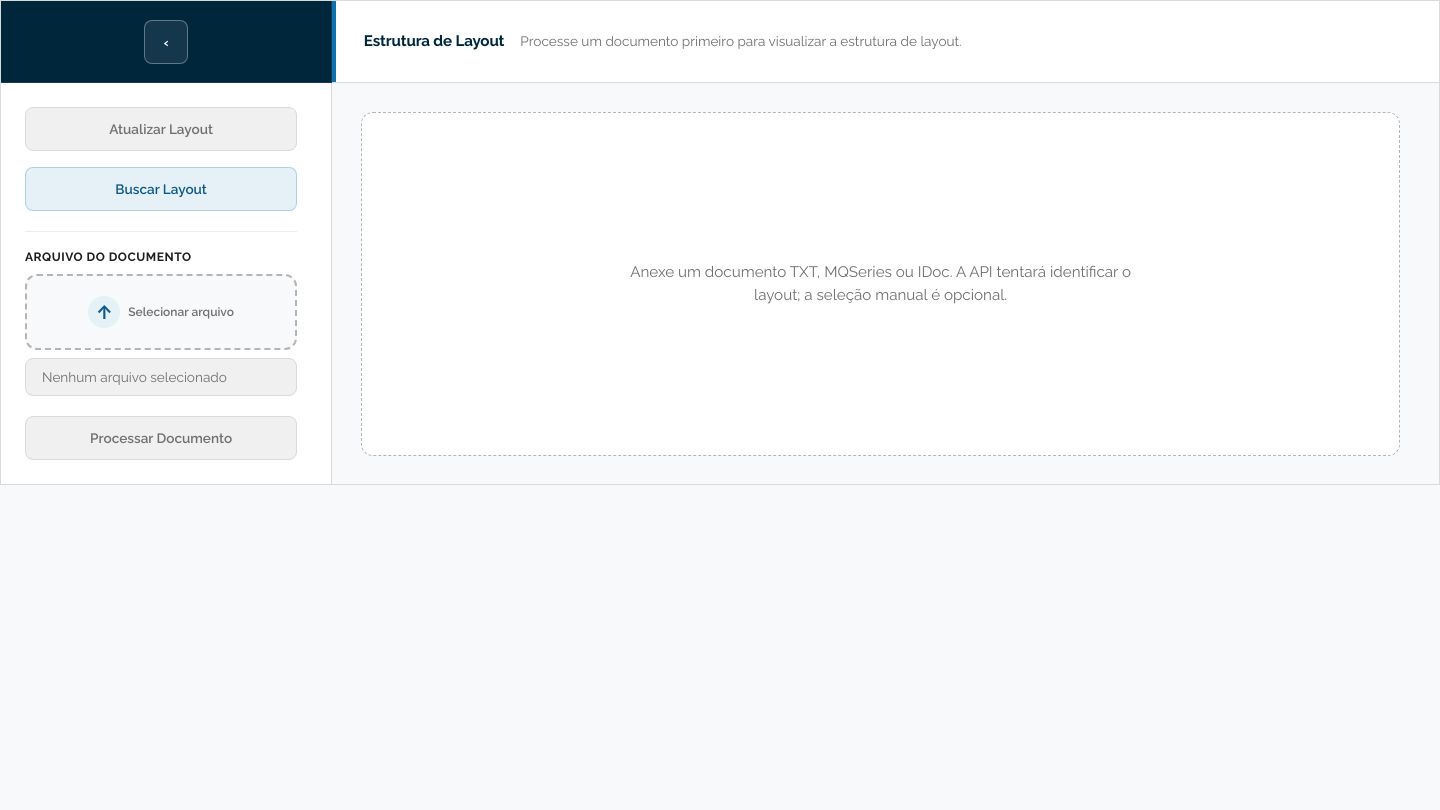
Test: LayoutParserPage › renderiza "Atualizar Layout" desabilitado para admin até haver busca bem-sucedida
Check: the button "Atualizar Layout" is disabled, box [25,107,297,151]
Click the button "Buscar Layout". click: (161, 189)
box: [25,167,297,211]
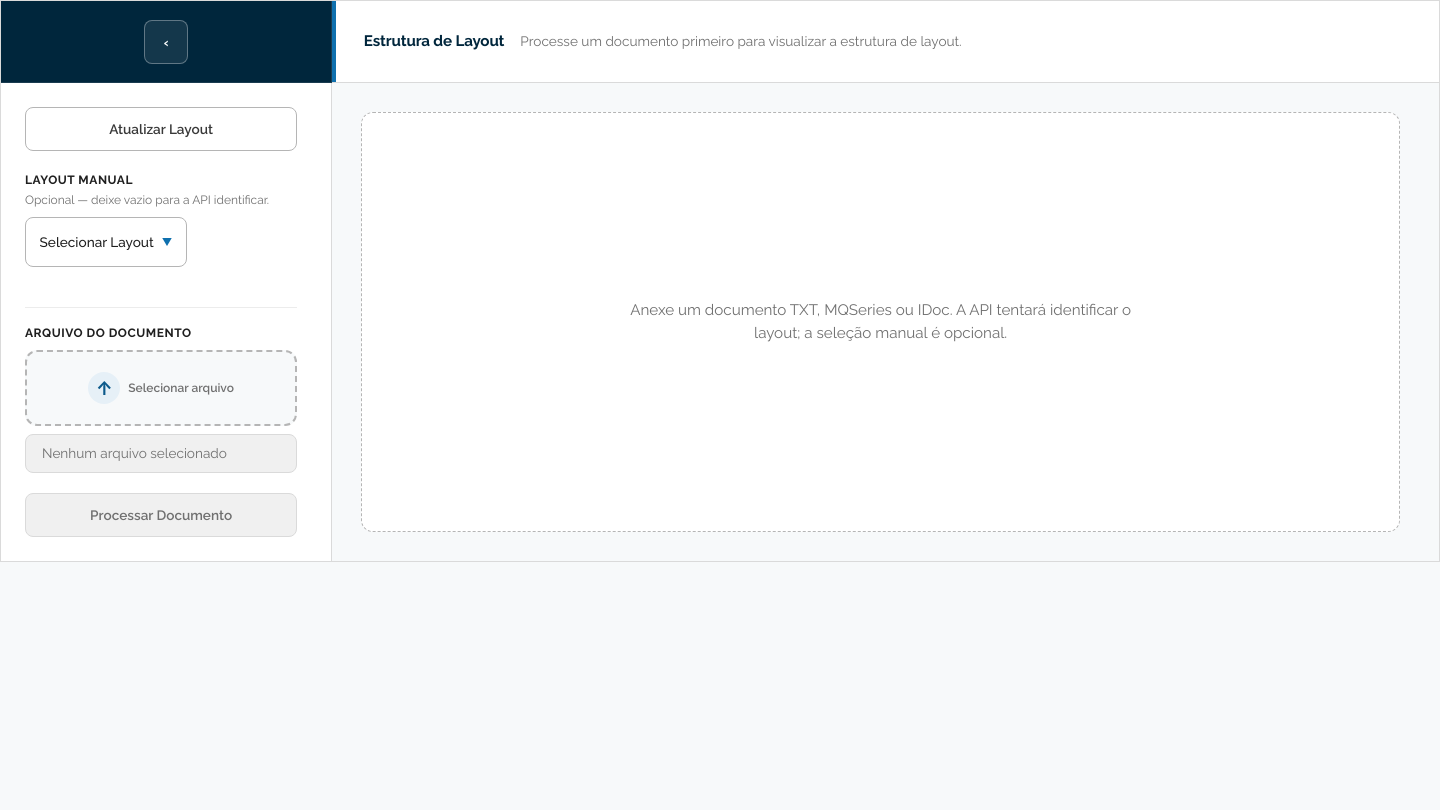
Check: the dropdown labelled "Selecionar Layout" is shown, box [25,217,187,267]
Check: the button "Atualizar Layout" is enabled, box [25,107,297,151]
